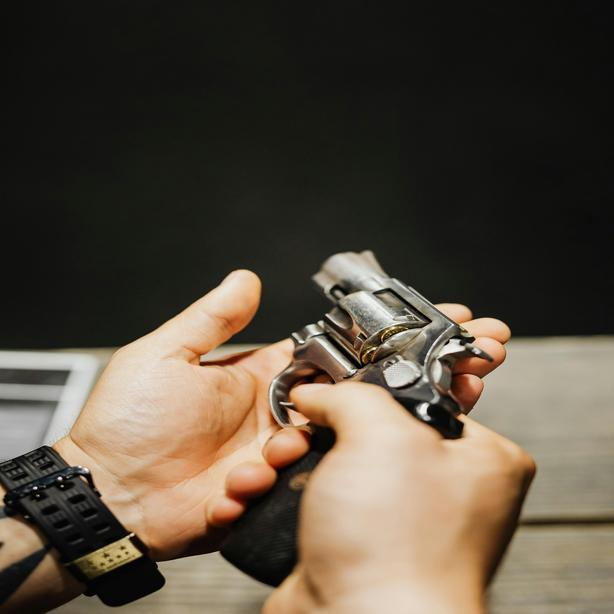Firearm: (225, 228, 501, 573)
